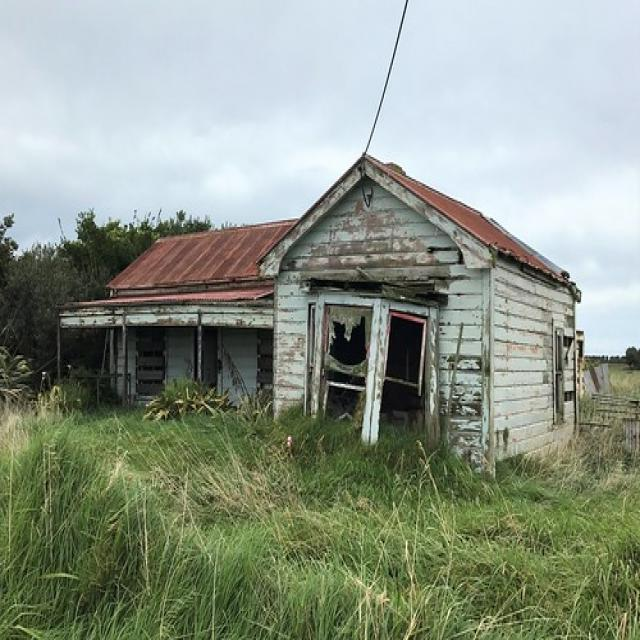Normal_building: (58, 151, 580, 489)
